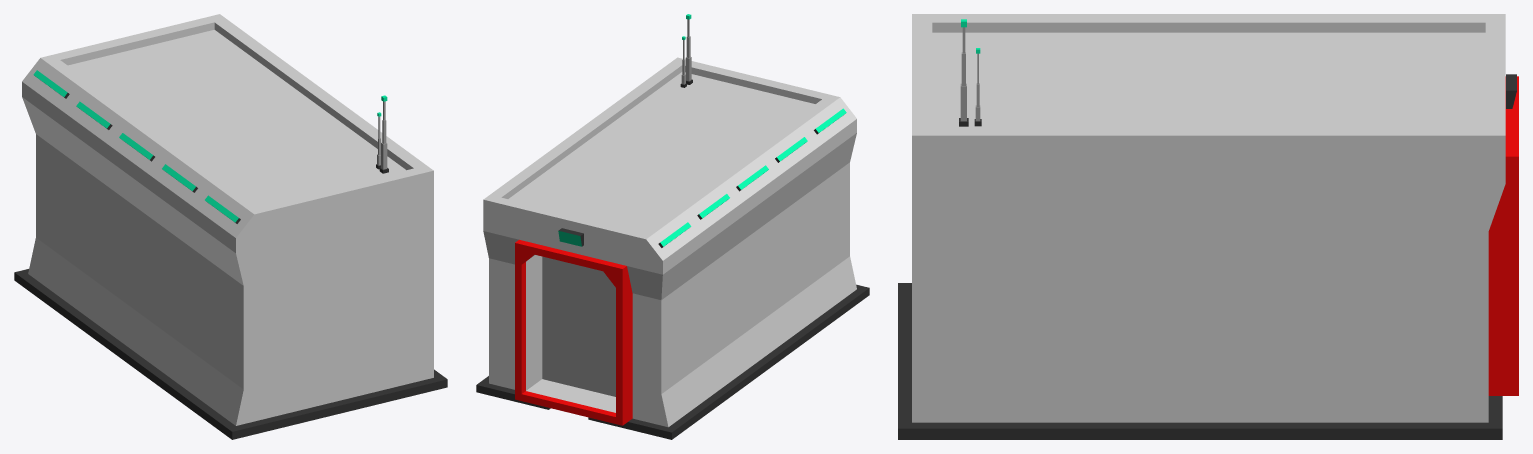
File: Storage.fbx
3 renders of one model, left to right at view 1: azimuth 30°, elevation 25°; view 2: azimuth 150°, elevation 25°; view 3: azimuth 270°, elevation 25°, orthographic. The views are drawn at different scales.
Parts seen in each view (by area): view 1: Storage; view 2: Storage; view 3: Storage.
Part boxes in pixels (<box>): Storage: <box>14,14,447,439</box>; Storage: <box>476,14,869,439</box>; Storage: <box>898,14,1518,439</box>.
Bounding box in the file's own units: 305 × 383 × 548.
